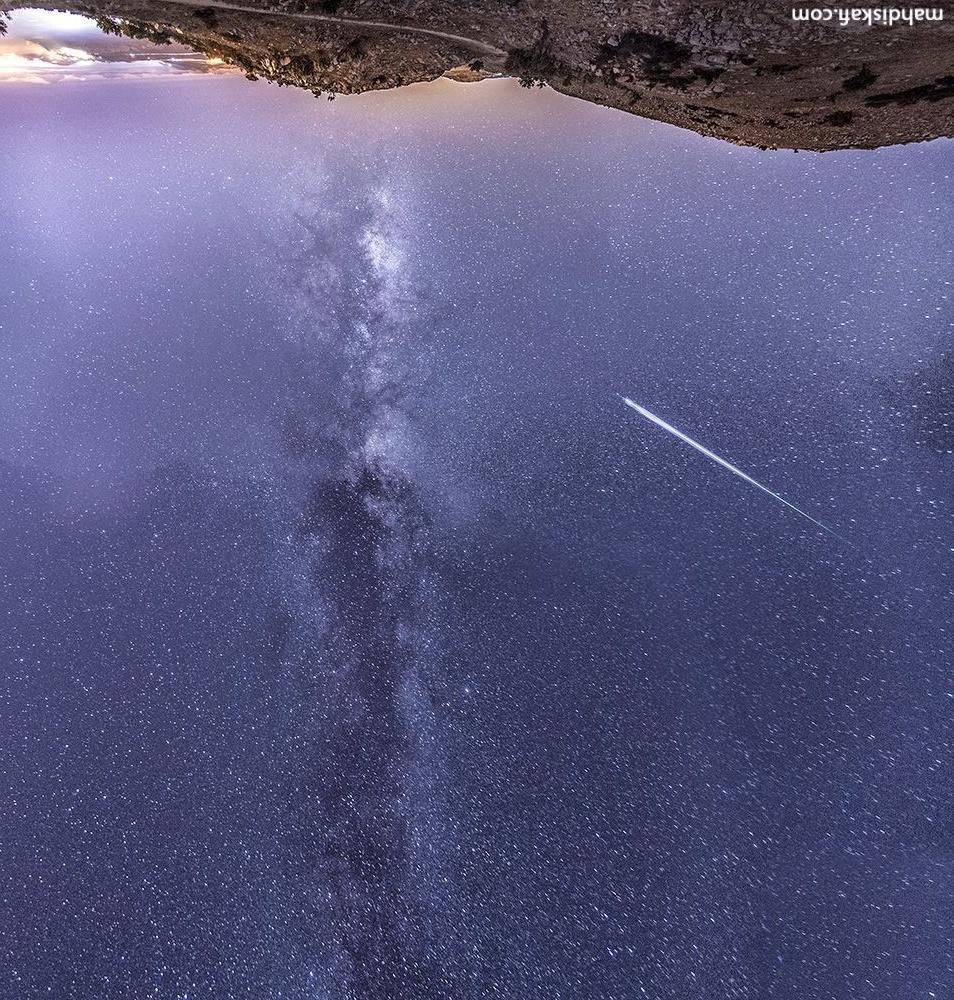meteorite: (594, 381, 875, 550)
